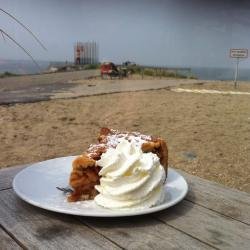apple_pie: (63, 123, 177, 205)
chantilly: (92, 144, 166, 212)
